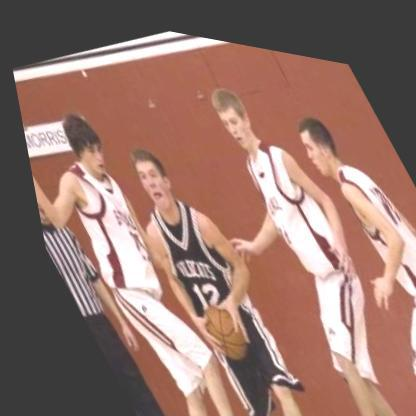basketball: (172, 282, 247, 364)
